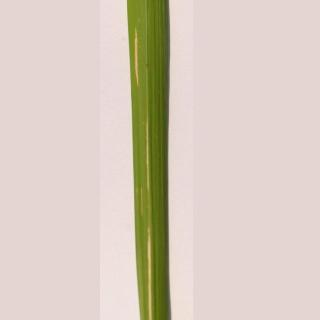Hawar-Daun: (112, 18, 184, 320)
